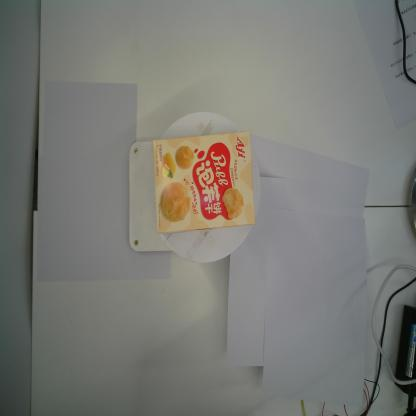Dessert: (153, 130, 255, 233)
